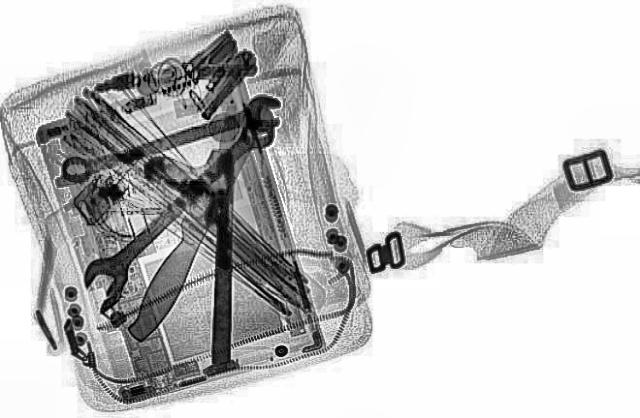Gun: (143, 148, 240, 268)
Wrench: (66, 113, 290, 300), (48, 91, 296, 190)
